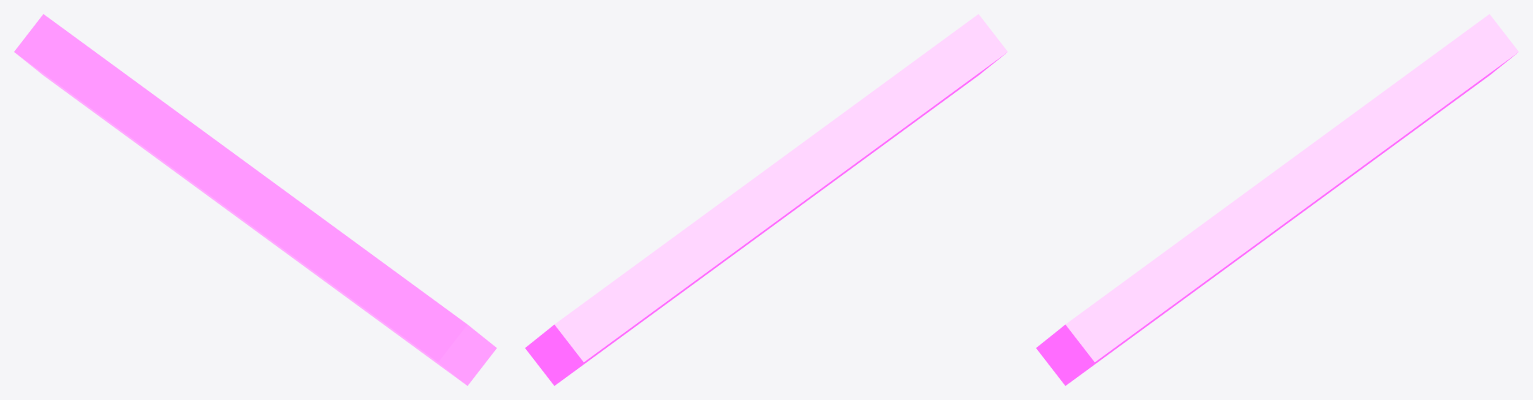
File: Laser.fbx
3 views of the same model, side by side, from view 1: azimuth 30°, elevation 25°; view 2: azimuth 150°, elevation 25°; view 3: azimuth 330°, elevation 25° (orthographic).
Visible parts, largest first — view 1: Laser; view 2: Laser; view 3: Laser.
Boxes of the visible parts, x1=… form: Laser: x1=14, y1=14, x2=496, y2=385; Laser: x1=525, y1=14, x2=1007, y2=385; Laser: x1=1036, y1=14, x2=1518, y2=385.
Size of the model in its own units: 40 by 40 by 500.
